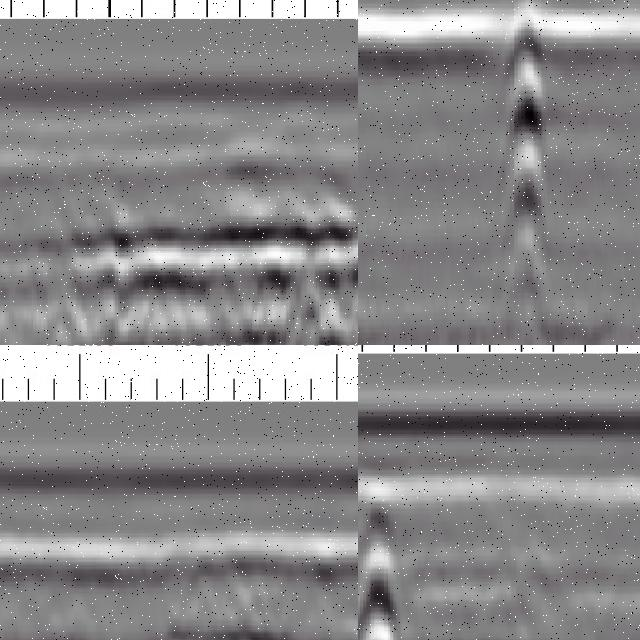crack: (510, 1, 540, 334), (359, 487, 405, 640)
loose: (57, 203, 359, 346)
